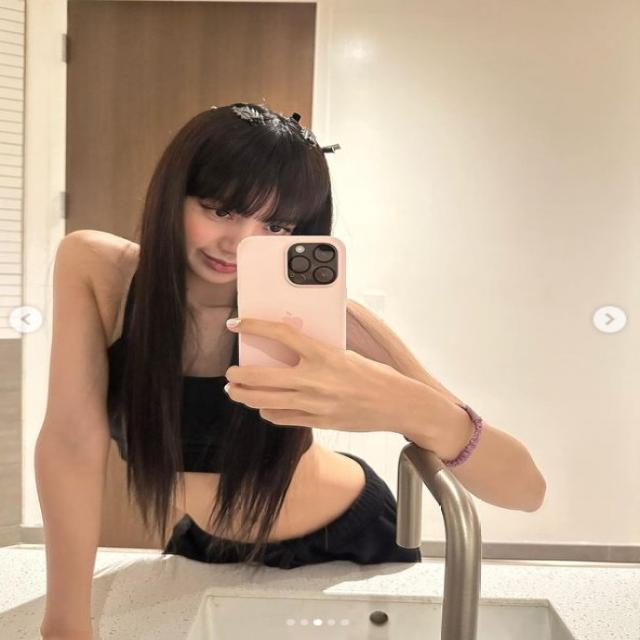Mobile: (236, 232, 351, 392)
